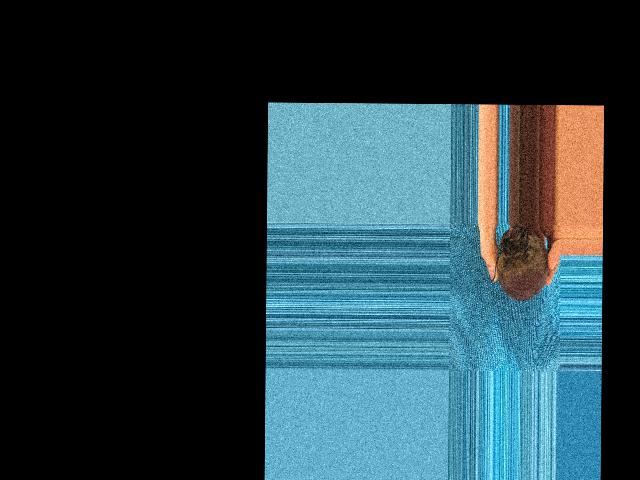beet: (490, 224, 548, 301)
